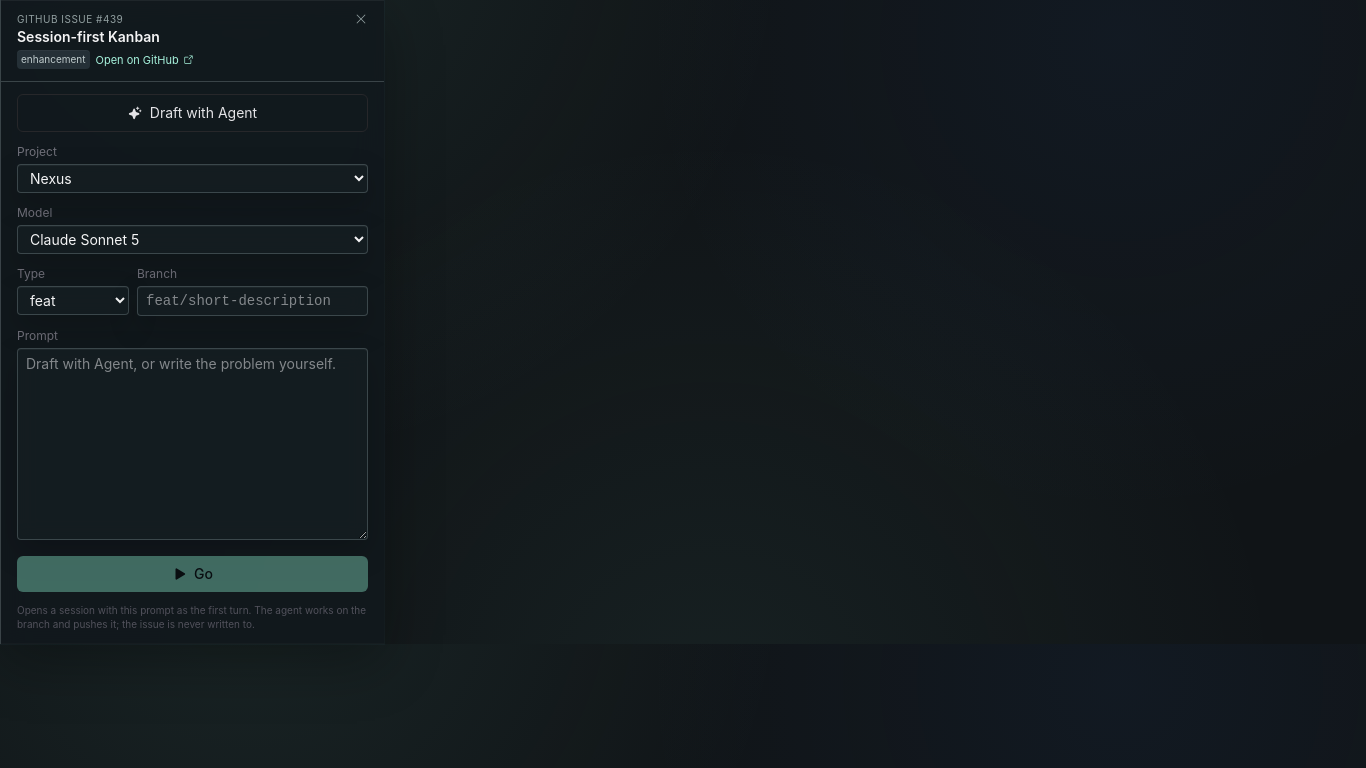
Test case: OriginSessionPanel › changing the type rewrites the branch prefix and keeps the slug
The width and height of the screenshot is (1366, 768).
Click the button "Draft with Agent": {"x": 192, "y": 113} [17,94,368,132]
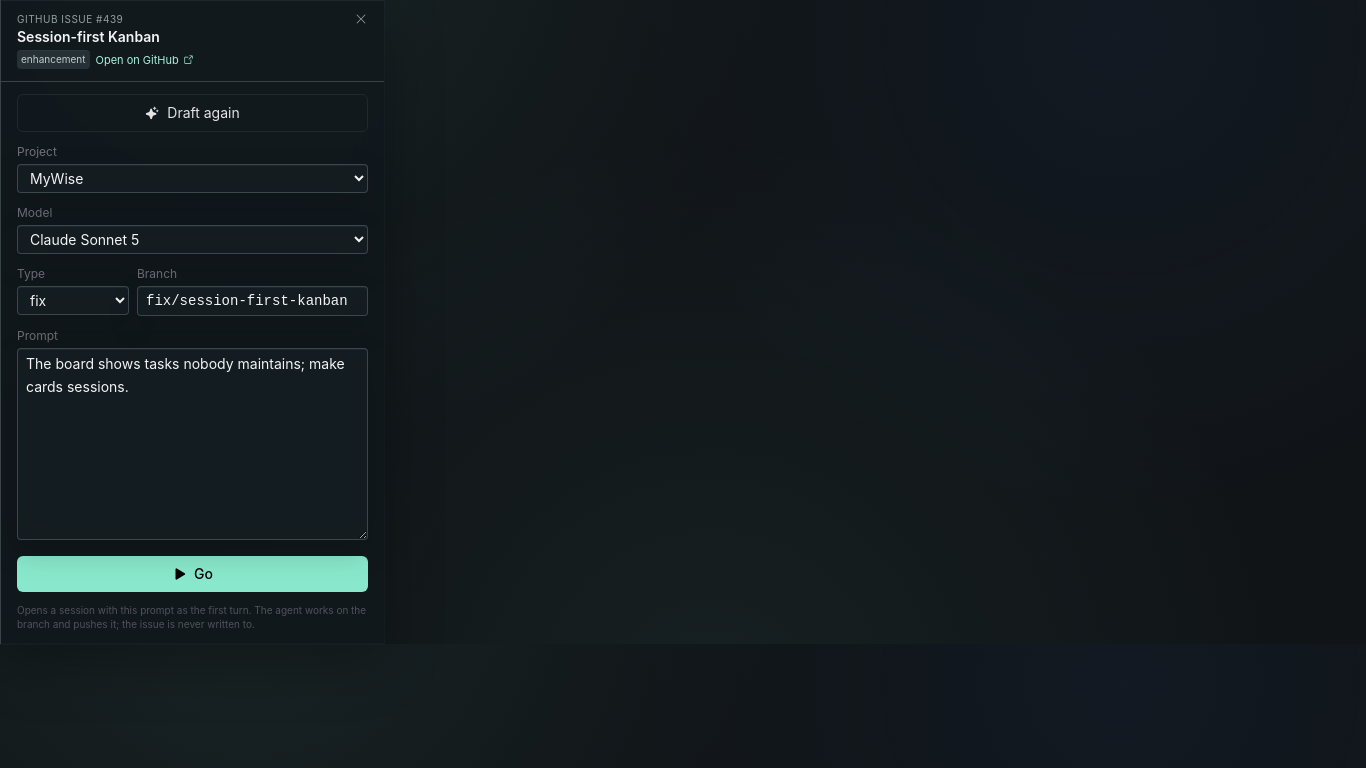
Expected: the field named "Branch name" holds "fix/session-first-kanban", [137,286,368,316]
Select "hotfix" in the dropdown named "Branch type": {"x": 73, "y": 301} [17,286,129,315]
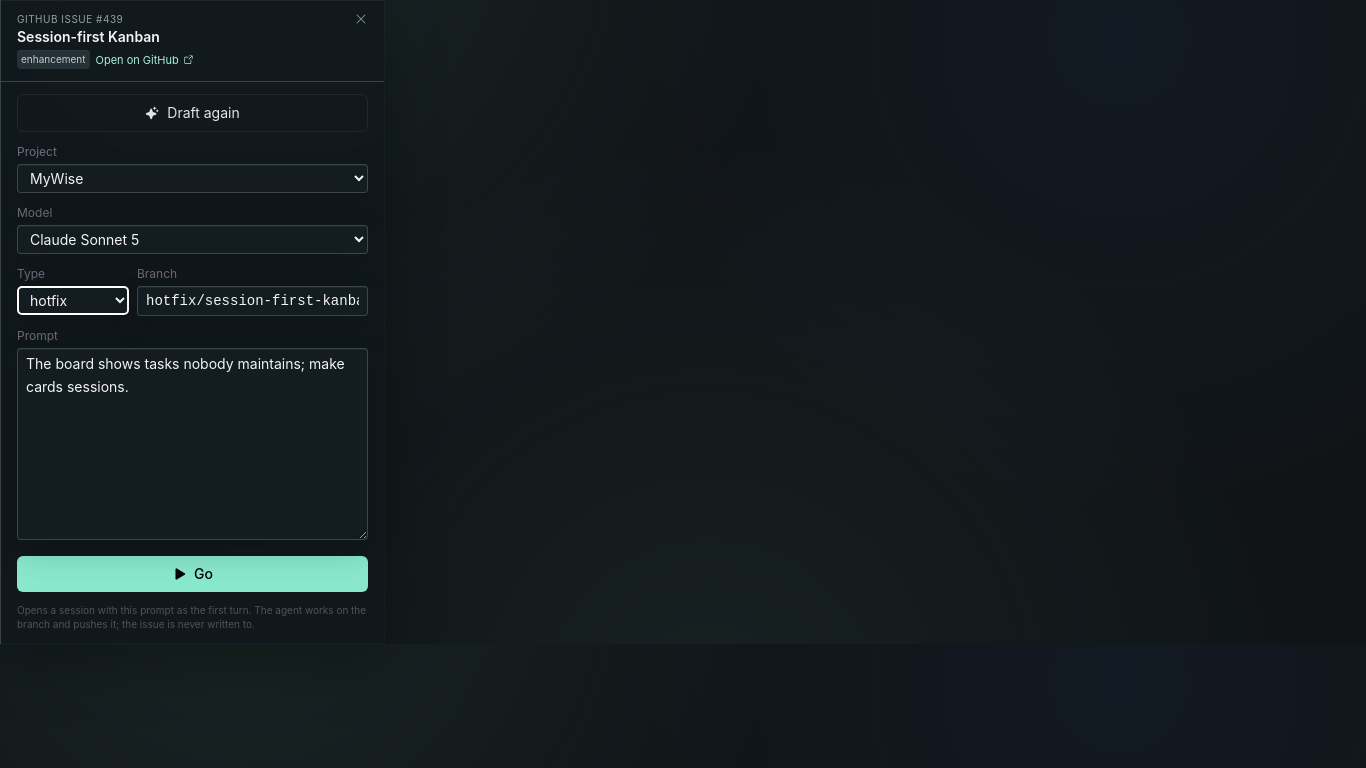
Expected: the field named "Branch name" holds "hotfix/session-first-kanban", [137,286,368,316]
Select "feat" in the dropdown named "Branch type": {"x": 73, "y": 301} [17,286,129,315]
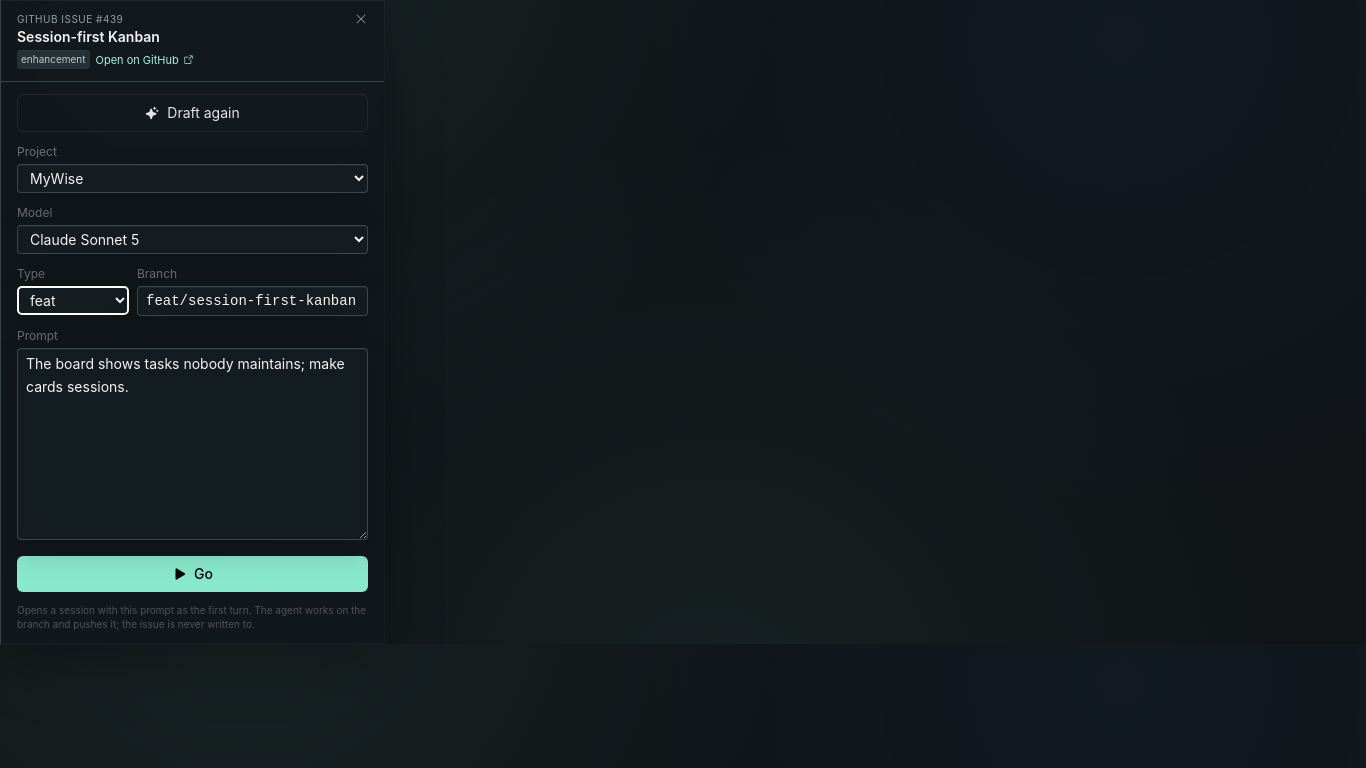
Expected: the field named "Branch name" holds "feat/session-first-kanban", [137,286,368,316]
